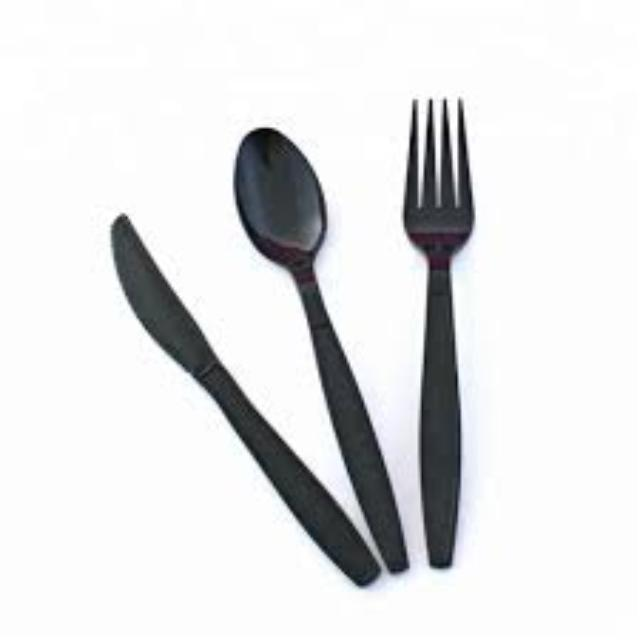Plastico descartable: (109, 215, 408, 589), (233, 127, 410, 578), (404, 98, 473, 571)
